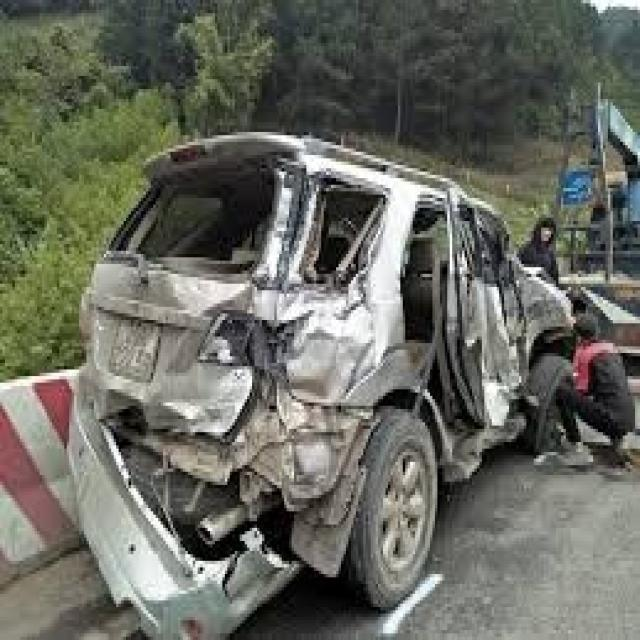accident: (45, 107, 607, 640)
